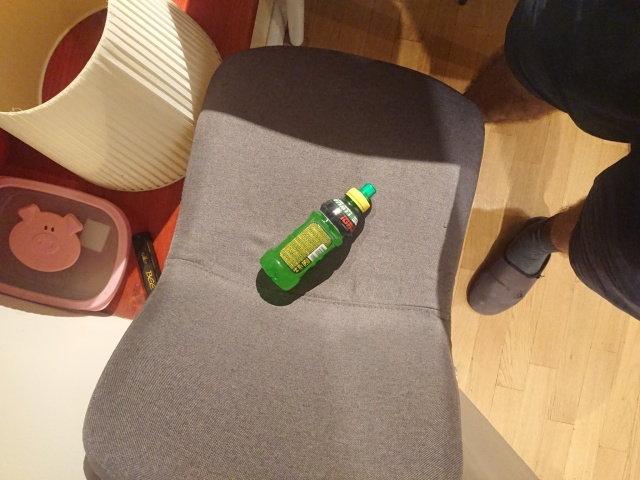Vindi Iso Sport Lemon-Grapefruit 500mL: (257, 181, 378, 293)
